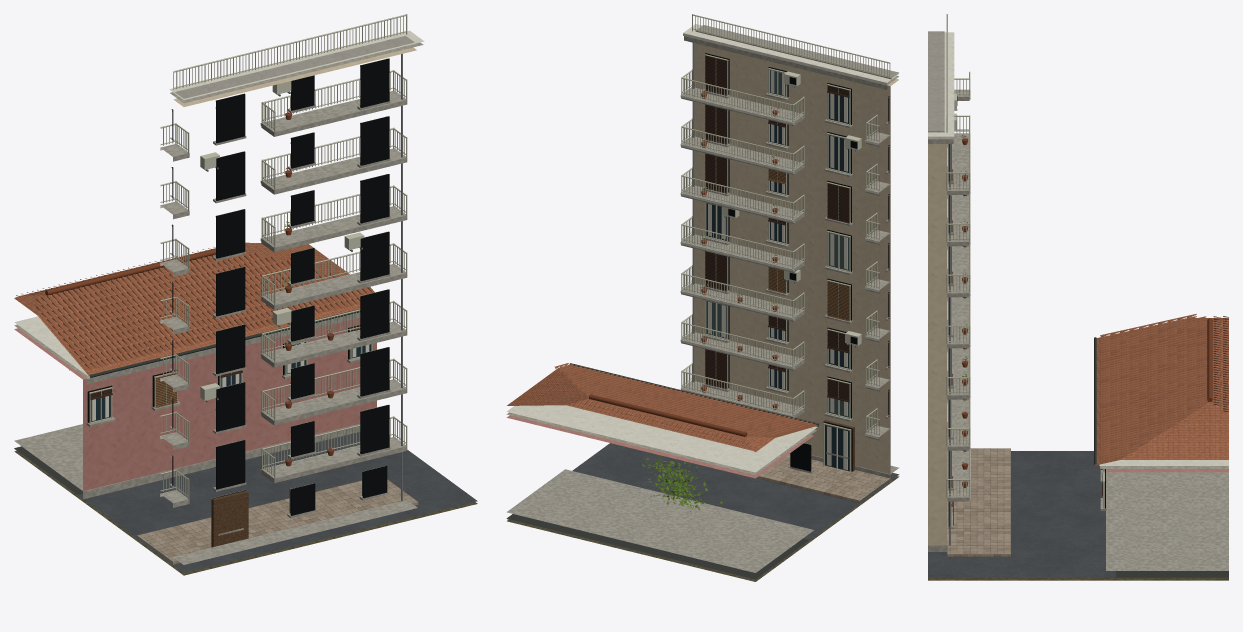
3 renders of one model, left to right at view 1: azimuth 30°, elevation 25°; view 2: azimuth 150°, elevation 25°; view 3: azimuth 270°, elevation 25°, orthographic. The views are drawn at different scales.
Bounding box in the file's own units: 16 × 28.01 × 16.
Materials: 24 (12 with a texture image).
